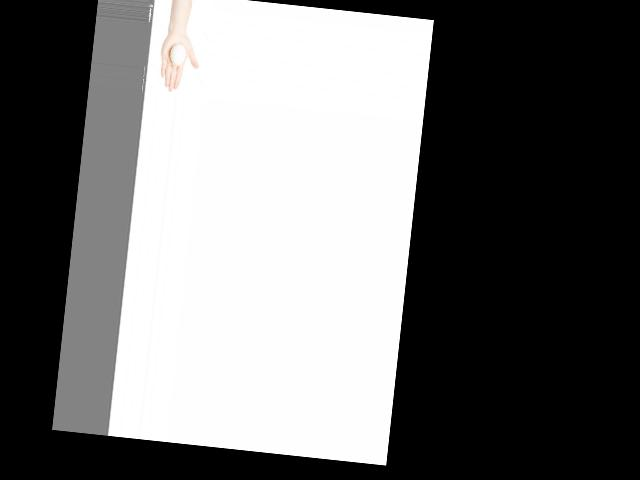egg: (169, 43, 186, 66)
